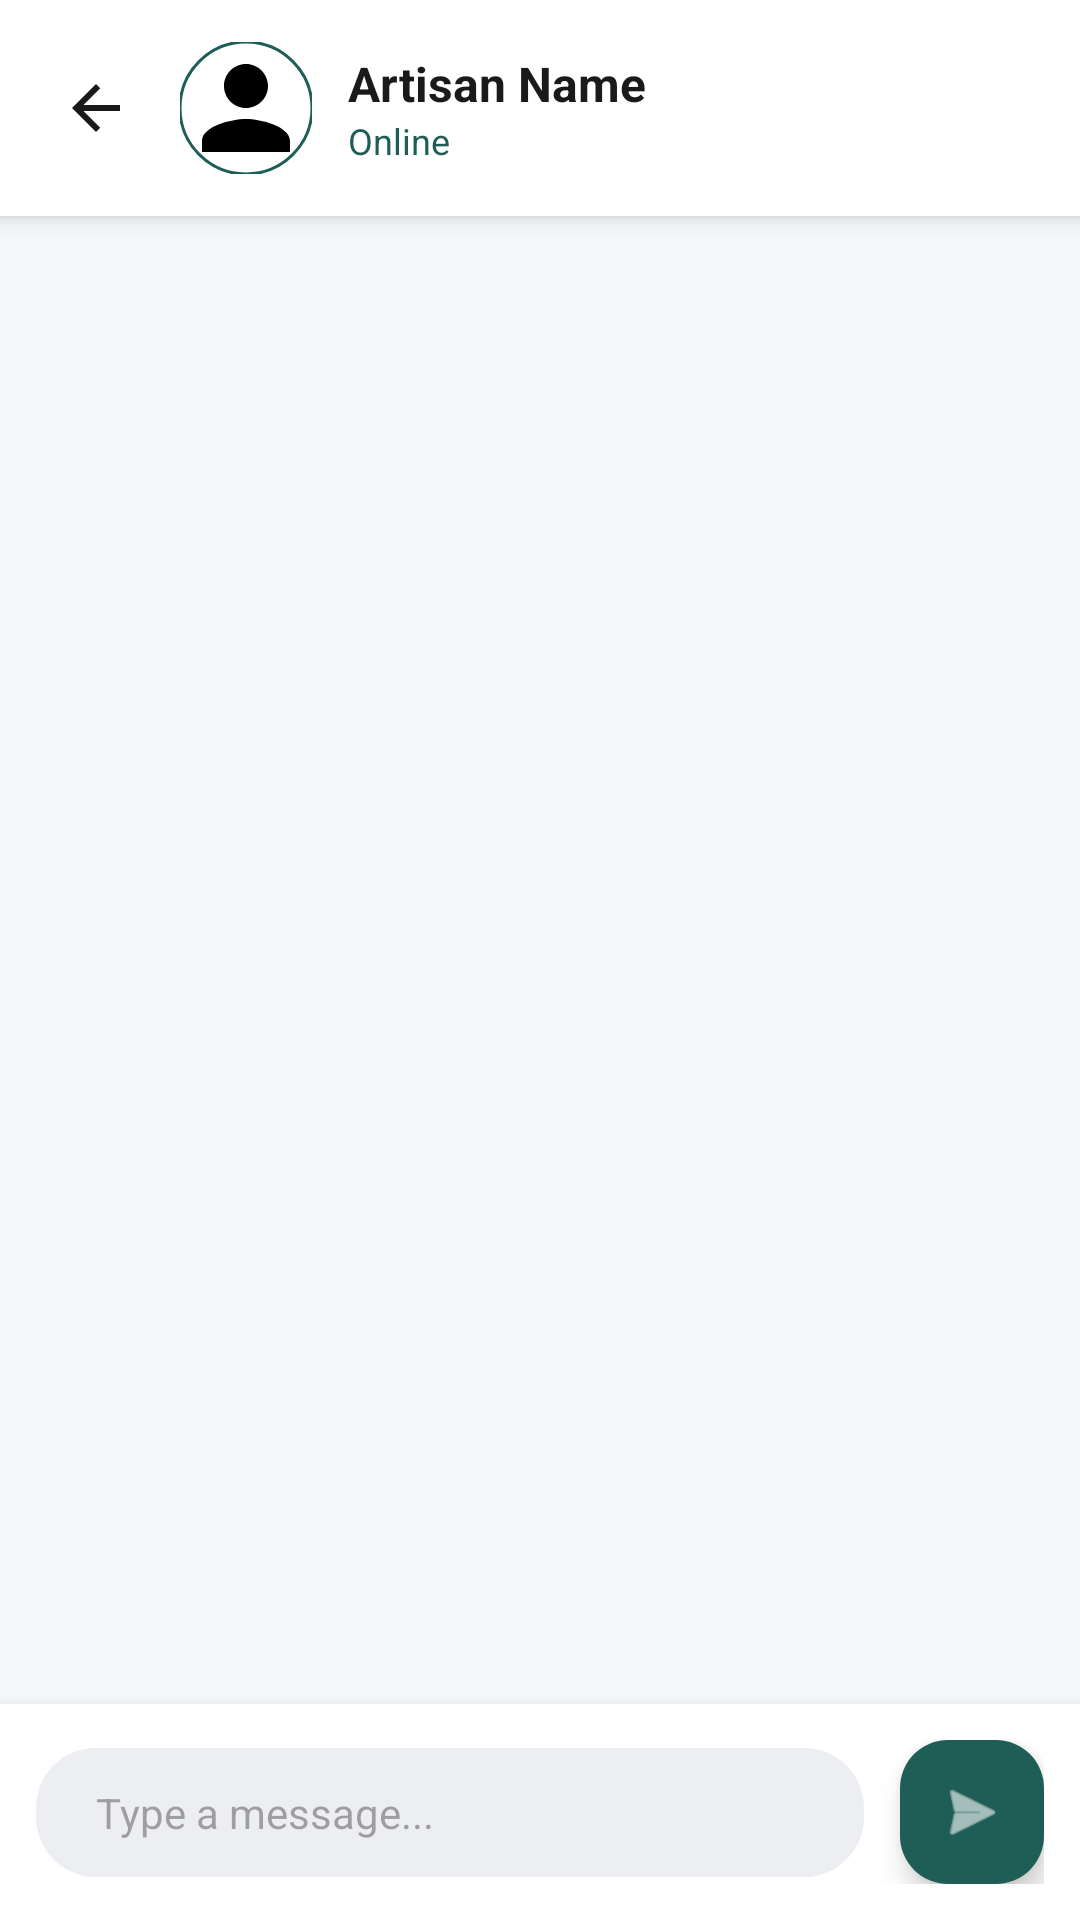

Icon bounding boxes for this 1080×1920 phone screenshot, format [x1, y1, x2, y2]:
back arrow: [72, 84, 120, 132]
person: [180, 42, 312, 174]
Send: [900, 1740, 1044, 1884]
